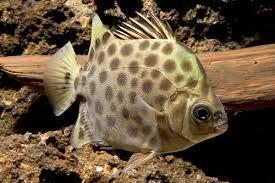Scat Fish: (45, 13, 229, 156)
